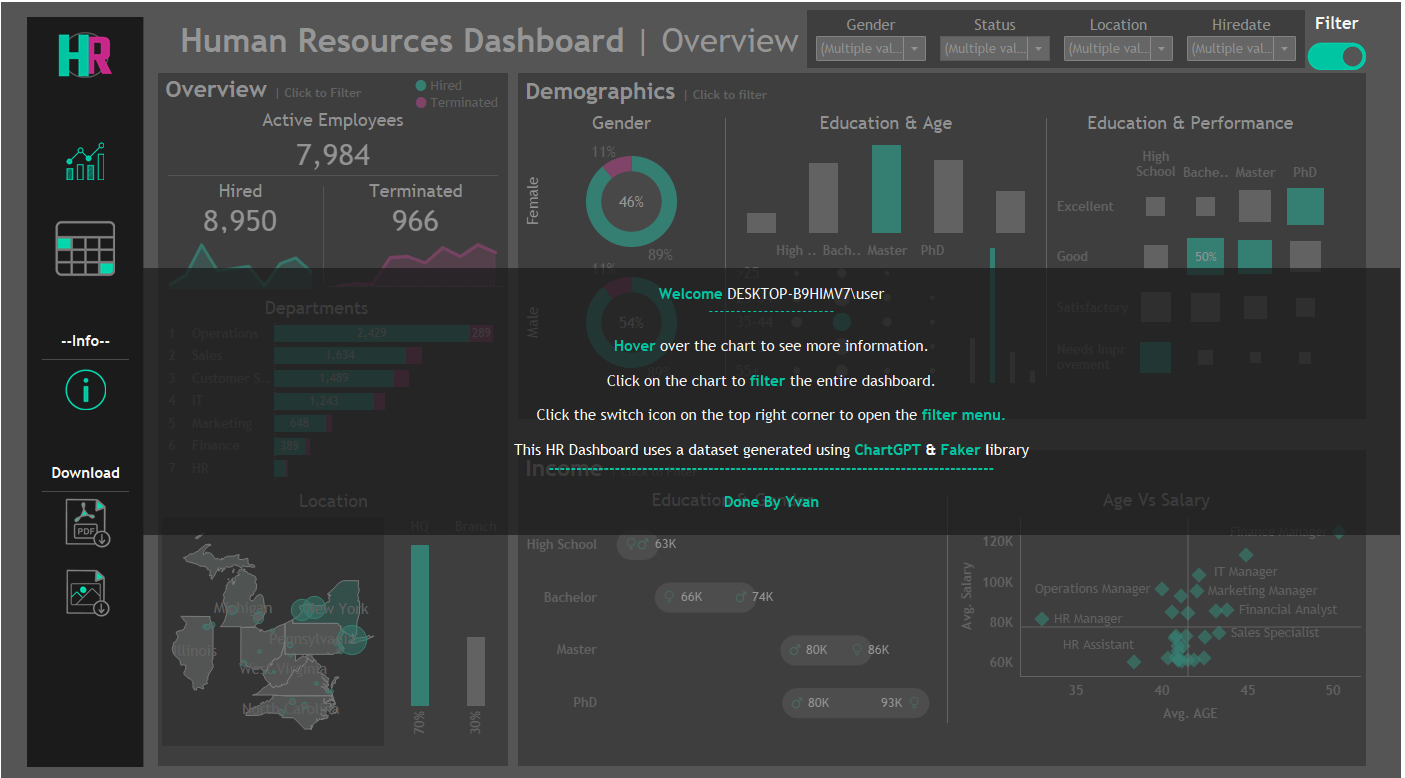

The page's visual inventory and layout, read from the dashboard file:
{"tool":"tableau","page":{"name":"HR | Summary","canvas":[1400,800],"ordinal":1},"visuals":[{"type":"blank","box":[142,0,1257,266]},{"type":"text","box":[1286,6,100,30]},{"type":"text","box":[150,7,677.5,64]},{"type":"blank","box":[827.5,7,537.5,64]},{"type":"filter","title":"Education VS Gender Level","param":"[federated.1b5o2vp1k13vo616yvkzb0z88h2i].[none:Gender:nk]","box":[808,10,124,54]},{"type":"filter","title":"Education VS Gender Level","param":"[federated.1b5o2vp1k13vo616yvkzb0z88h2i].[none:Calculation_1937110847479668753:n","box":[932,10,124,54]},{"type":"filter","title":"Education VS Gender Level","param":"[federated.1b5o2vp1k13vo616yvkzb0z88h2i].[none:Calculation_1937110846422126599:n","box":[1056,10,123,54]},{"type":"filter","title":"Education VS Gender Level","param":"[federated.1b5o2vp1k13vo616yvkzb0z88h2i].[yr:Hiredate:ok]","box":[1179,10,123,54]},{"type":"image","param":"Image/Logo.png","box":[36,25,97,55]},{"type":"dashboard-object","box":[1306,35,59,39]},{"type":"text","box":[157,71,350,32]},{"type":"text","box":[517,71,848,35]},{"type":"text","box":[411,76,89,36]},{"type":"blank","box":[36,80,97,60]},{"type":"text","box":[157,103,350,29]},{"type":"text","box":[517,106,207,29]},{"type":"blank","box":[724,106,1,279]},{"type":"text","box":[725,106,320,29]},{"type":"blank","box":[1045,106,1,279]},{"type":"text","box":[1046,106,287,29]},{"type":"worksheet","title":"Active","mark":"Text","box":[157,132,350,41]},{"type":"worksheet","title":"Gender","mark":"Pie","rows":["Gender"],"cols":["Calculation_1937110846429085710","Calculation_1937110846429085710"],"box":[517,135,207,250]},{"type":"worksheet","title":"Age Group","mark":"Bar","rows":["Calculation_1937110846402056192"],"cols":["Calculation_1937110846440509456"],"box":[725,135,320,100]},{"type":"worksheet","title":"Education VS Performance","mark":"Square","rows":["Performance Rating"],"cols":["Education Level"],"box":[1046,135,287,250]},{"type":"dashboard-object","box":[36,140,97,38]},{"type":"blank","box":[157,173,350,1]},{"type":"text","box":[157,174,165,29]},{"type":"blank","box":[322,174,1,117]},{"type":"text","box":[323,174,184,29]},{"type":"blank","box":[36,178,97,38]},{"type":"worksheet","title":"HIRED","mark":"Text","box":[157,203,165,32]},{"type":"worksheet","title":"Terminated","mark":"Text","box":[323,203,184,32]},{"type":"dashboard-object","box":[36,216,97,60]},{"type":"worksheet","title":"Hired by Years","mark":"Line","rows":["Calculation_1937110846402056192","Calculation_1937110846402056192"],"cols":["Hiredate"],"box":[157,235,165,56]},{"type":"worksheet","title":"Terminated by Years","mark":"Line","rows":["Calculation_1937110846402326529","Calculation_1937110846402326529"],"cols":["Termdate"],"box":[323,235,184,56]},{"type":"worksheet","title":"Age VS Education","mark":"Pie","rows":["Calculation_1937110846440509456"],"cols":["Education Level"],"box":[725,235,233,150]},{"type":"worksheet","title":"Education Level","mark":"Bar","rows":["Calculation_1937110846402056192"],"cols":["Education Level"],"box":[958,235,87,150]},{"type":"text","box":[142,266,1257,267]},{"type":"blank","box":[36,276,97,50]},{"type":"blank","box":[157,291,92,25]},{"type":"text","box":[249,291,133,25]},{"type":"blank","box":[382,291,125,25]},{"type":"worksheet","title":"Departments","mark":"Bar","rows":["Calculation_1937110846415405062","Department"],"cols":["Calculation_1937110846402056192"],"box":[157,316,350,166]},{"type":"text","box":[36,326,97,26]},{"type":"blank","box":[36,352,97,11]},{"type":"dashboard-object","box":[36,363,97,49]},{"type":"blank","box":[36,412,97,46]},{"type":"text","box":[517,448.5,848,35]},{"type":"text","box":[36,458,97,26]},{"type":"text","box":[517,483.5,429.5,29]},{"type":"blank","box":[946.5,483.5,1,248]},{"type":"text","box":[947.5,483.5,417.5,29]},{"type":"blank","box":[36,484,97,11]},{"type":"blank","box":[167,487,112.7,24]},{"type":"text","box":[279.7,487,104.7,24]},{"type":"blank","box":[384.3,487,112.7,24]},{"type":"dashboard-object","box":[36,495,97,51]},{"type":"worksheet","title":"MAP STATE","mark":"Automatic","box":[157,511,230.5,237]},{"type":"worksheet","title":"Location","mark":"Bar","rows":["Calculation_1937110846402056192"],"cols":["Calculation_1937110846422126599","Calculation1"],"box":[387.5,511,119.5,237]},{"type":"worksheet","title":"Education VS Gender Level","mark":"Square","rows":["Education Level"],"cols":["Salary","Salary"],"box":[517,512.5,429.5,219]},{"type":"worksheet","title":"Age VS Salary","mark":"Shape","rows":["Salary"],"cols":["Calculation_1937110846439919631"],"box":[947.5,512.5,417.5,219]},{"type":"blank","box":[142,533,1257,267]},{"type":"blank","box":[36,546,97,20]},{"type":"dashboard-object","box":[36,566,97,49]}]}

Visuals, with their boxes on the page's 1400x800 design canvas (x1, y1, x2, y2). These are canvas units, not pixel positions in the 1405x778 screenshot, which may show the page scaled, cropped or inside an application window:
blank: <box>142,0,1399,266</box>
text: <box>1286,6,1386,36</box>
text: <box>150,7,828,71</box>
blank: <box>828,7,1365,71</box>
"Education VS Gender Level" filter: <box>808,10,932,64</box>
"Education VS Gender Level" filter: <box>932,10,1056,64</box>
"Education VS Gender Level" filter: <box>1056,10,1179,64</box>
"Education VS Gender Level" filter: <box>1179,10,1302,64</box>
image: <box>36,25,133,80</box>
dashboard-object: <box>1306,35,1365,74</box>
text: <box>157,71,507,103</box>
text: <box>517,71,1365,106</box>
text: <box>411,76,500,112</box>
blank: <box>36,80,133,140</box>
text: <box>157,103,507,132</box>
text: <box>517,106,724,135</box>
blank: <box>724,106,725,385</box>
text: <box>725,106,1045,135</box>
blank: <box>1045,106,1046,385</box>
text: <box>1046,106,1333,135</box>
"Active" worksheet (Text marks): <box>157,132,507,173</box>
"Gender" worksheet (Pie marks): <box>517,135,724,385</box>
"Age Group" worksheet (Bar marks): <box>725,135,1045,235</box>
"Education VS Performance" worksheet (Square marks): <box>1046,135,1333,385</box>
dashboard-object: <box>36,140,133,178</box>
blank: <box>157,173,507,174</box>
text: <box>157,174,322,203</box>
blank: <box>322,174,323,291</box>
text: <box>323,174,507,203</box>
blank: <box>36,178,133,216</box>
"HIRED" worksheet (Text marks): <box>157,203,322,235</box>
"Terminated" worksheet (Text marks): <box>323,203,507,235</box>
dashboard-object: <box>36,216,133,276</box>
"Hired by Years" worksheet (Line marks): <box>157,235,322,291</box>
"Terminated by Years" worksheet (Line marks): <box>323,235,507,291</box>
"Age VS Education" worksheet (Pie marks): <box>725,235,958,385</box>
"Education Level" worksheet (Bar marks): <box>958,235,1045,385</box>
text: <box>142,266,1399,533</box>
blank: <box>36,276,133,326</box>
blank: <box>157,291,249,316</box>
text: <box>249,291,382,316</box>
blank: <box>382,291,507,316</box>
"Departments" worksheet (Bar marks): <box>157,316,507,482</box>
text: <box>36,326,133,352</box>
blank: <box>36,352,133,363</box>
dashboard-object: <box>36,363,133,412</box>
blank: <box>36,412,133,458</box>
text: <box>517,448,1365,484</box>
text: <box>36,458,133,484</box>
text: <box>517,484,946,512</box>
blank: <box>946,484,948,732</box>
text: <box>948,484,1365,512</box>
blank: <box>36,484,133,495</box>
blank: <box>167,487,280,511</box>
text: <box>280,487,384,511</box>
blank: <box>384,487,497,511</box>
dashboard-object: <box>36,495,133,546</box>
"MAP STATE" worksheet: <box>157,511,388,748</box>
"Location" worksheet (Bar marks): <box>388,511,507,748</box>
"Education VS Gender Level" worksheet (Square marks): <box>517,512,946,732</box>
"Age VS Salary" worksheet (Shape marks): <box>948,512,1365,732</box>
blank: <box>142,533,1399,800</box>
blank: <box>36,546,133,566</box>
dashboard-object: <box>36,566,133,615</box>
